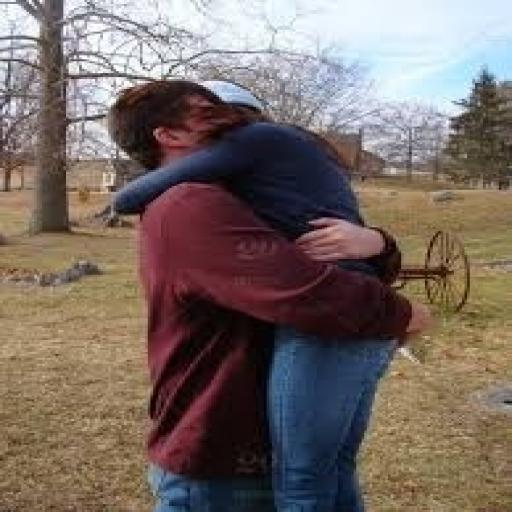hugging: (103, 77, 425, 510)
